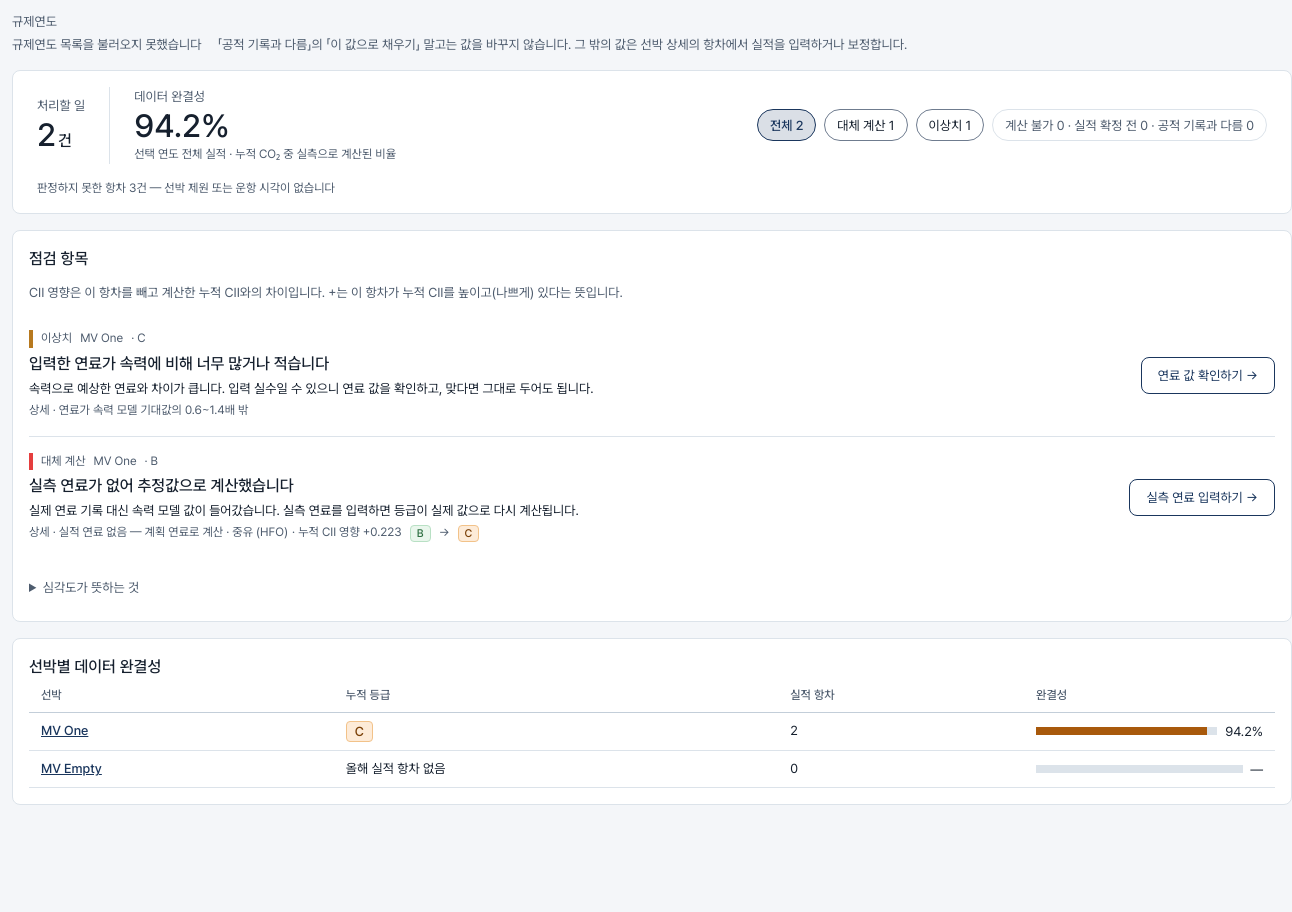
0건 항목은 위험색을 달지 않는다 (#1288) › 칩으로 거르면 그 심각도의 할 일만 남고, 누른 칩이 눌림 상태를 말한다
Expected: the heading "점검 항목" is shown, [29, 249, 88, 268]
Expected: the number of list items with class "dq-task" is 2, [29, 314, 1275, 437]; [29, 437, 1275, 558]
Click the button "이상치 1" at x=950, y=126, box [916, 110, 984, 142]
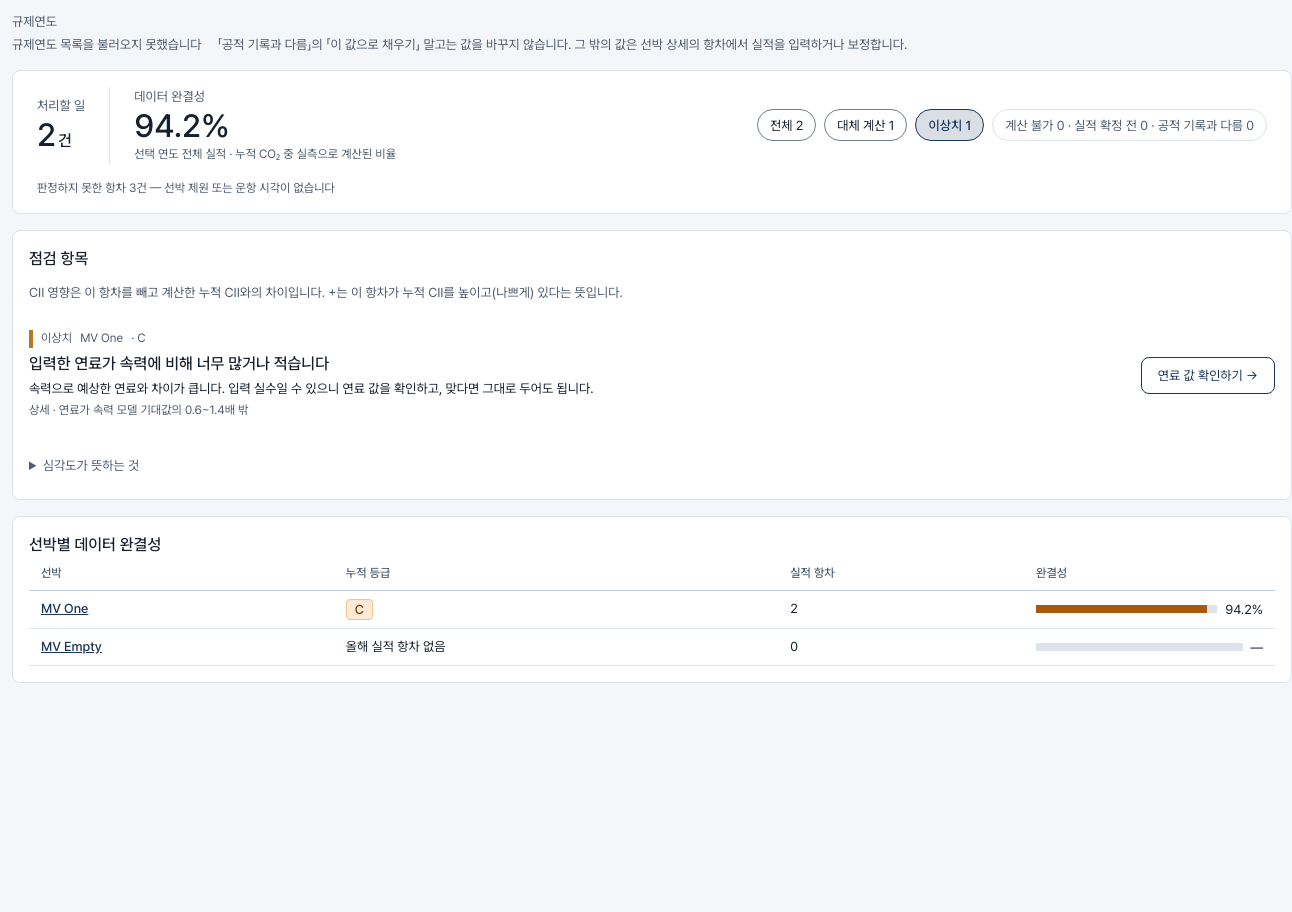
Expected: the button "전체 2" is not pressed, [757, 110, 816, 142]
# 다시 누르면 풀린다
Click the button "이상치 1" at x=950, y=126, box [916, 110, 984, 142]
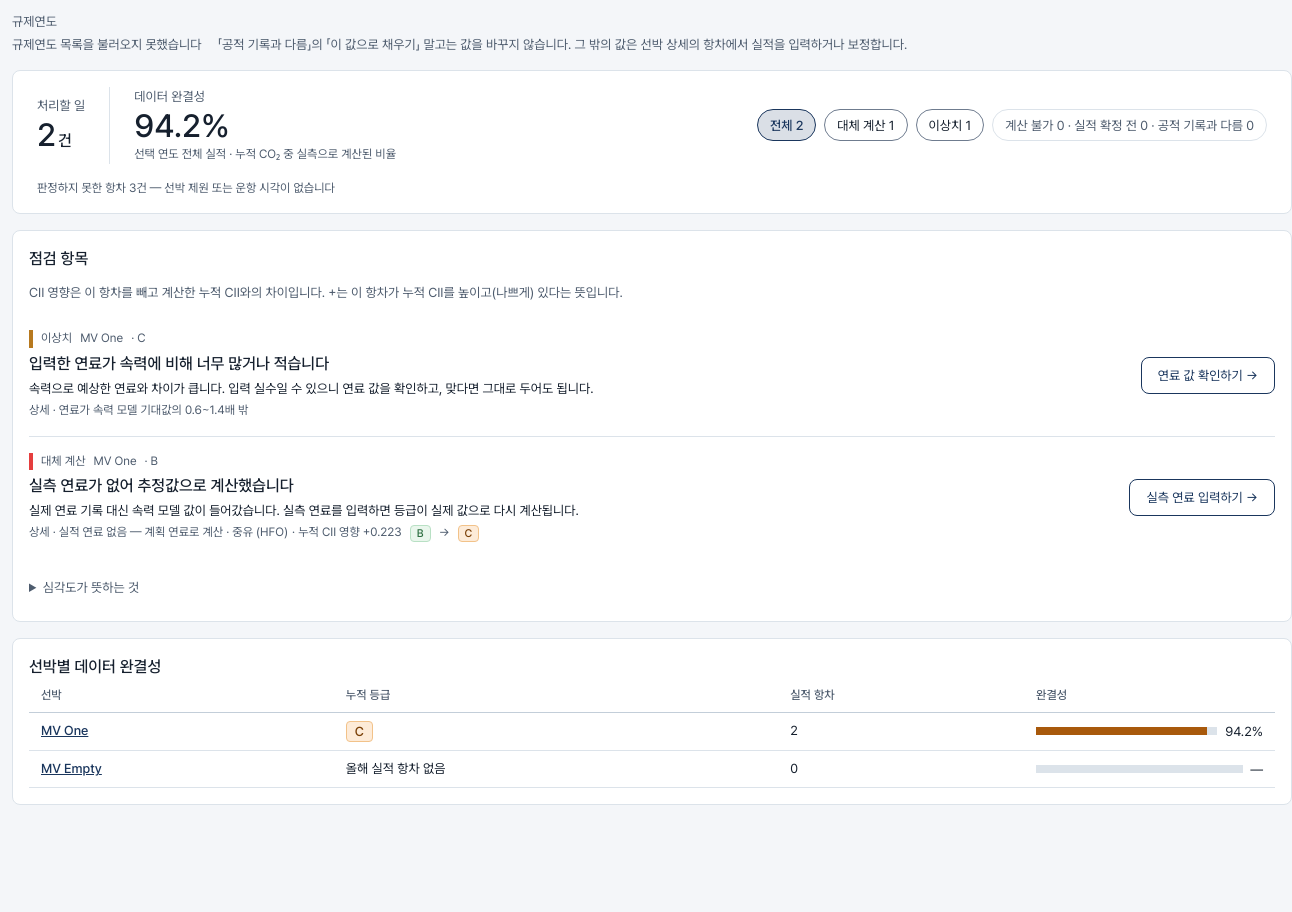
Expected: the number of list items with class "dq-task" is 2, [29, 314, 1275, 437]; [29, 437, 1275, 558]
